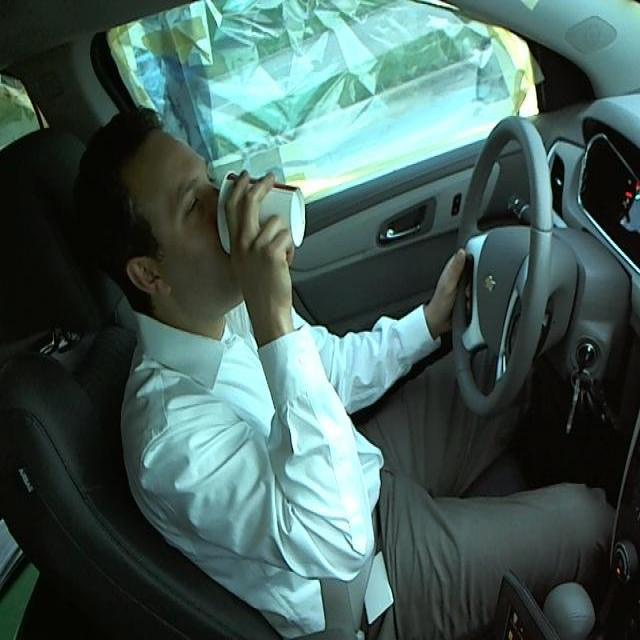drinking: (214, 166, 308, 258)
